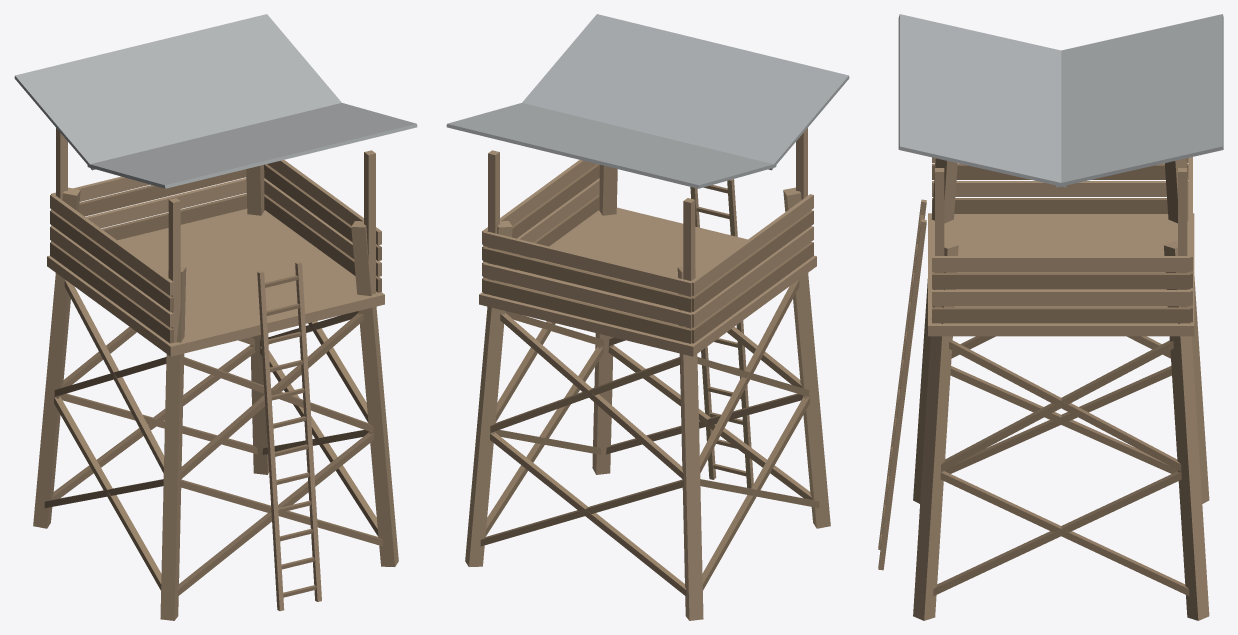
The model's file is guard_tower.glb.
The picture shows the model from 3 angles, left to right: view 1: azimuth 30°, elevation 25°; view 2: azimuth 150°, elevation 25°; view 3: azimuth 270°, elevation 25°; orthographic projection. The views are drawn at different scales.
Parts seen in each view (by area): view 1: Tower; view 2: Tower; view 3: Tower.
Boxes of the visible parts, x1,y1,x2,y2 form: Tower: [14, 14, 417, 620]; Tower: [446, 14, 849, 620]; Tower: [878, 14, 1223, 620].
Size of the model in its own units: 4 by 6.75 by 4.41.
